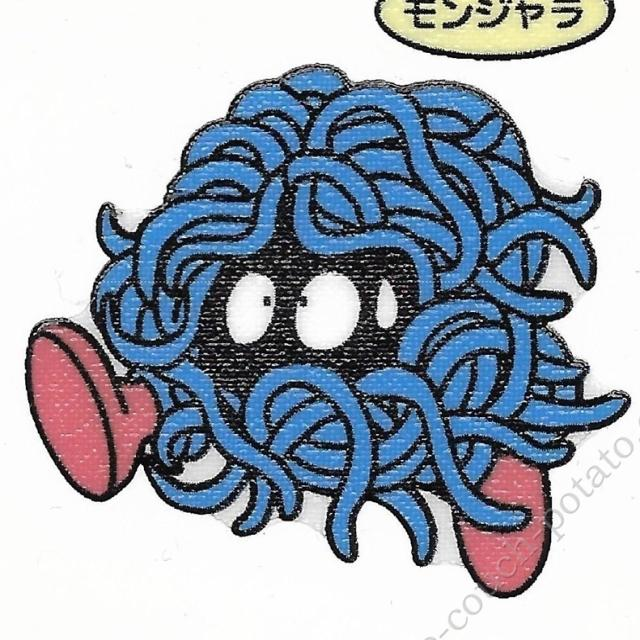Tangela: (55, 80, 555, 549)
